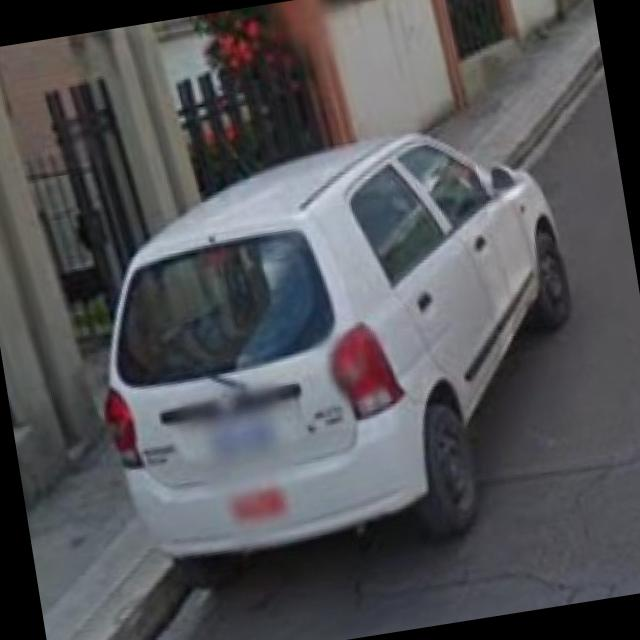car: (70, 120, 606, 620)
